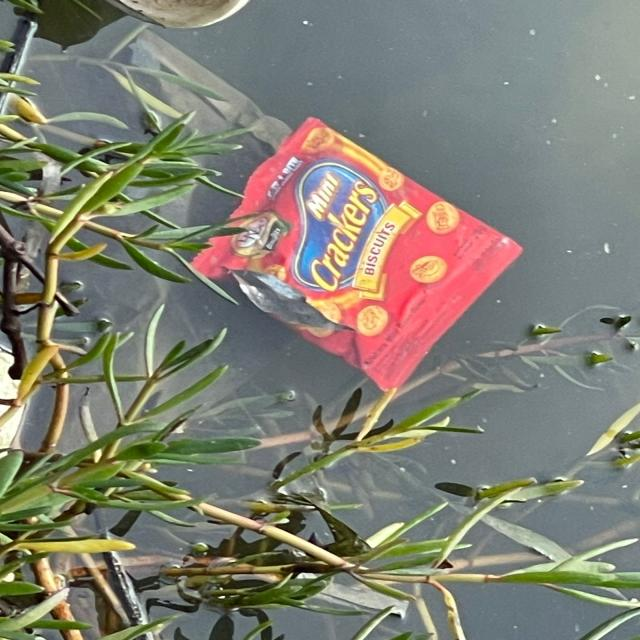Bungkus Makanan: (188, 118, 531, 393)
